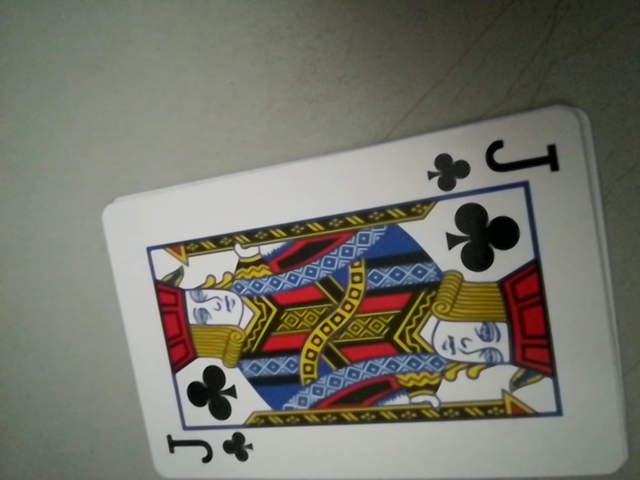mh j: (425, 128, 563, 195), (158, 425, 255, 476)
